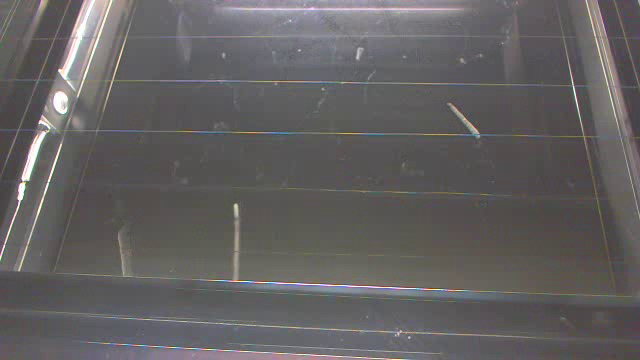alpha: (447, 101, 480, 140), (230, 200, 241, 281)
